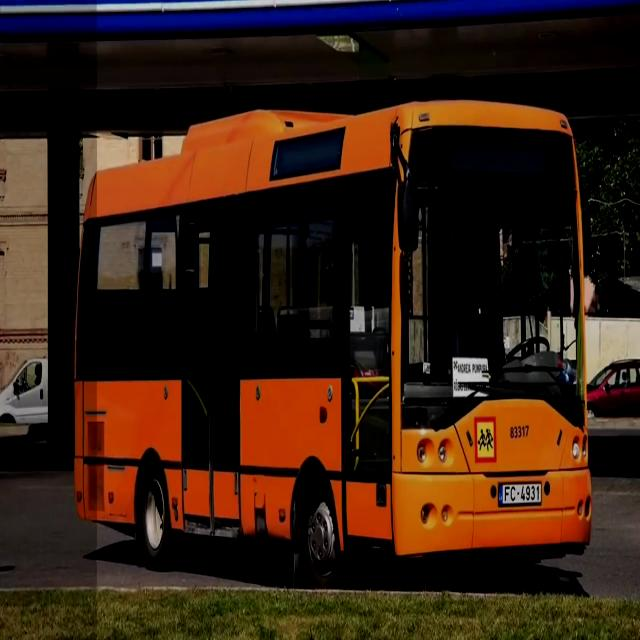bus: (68, 92, 602, 602)
